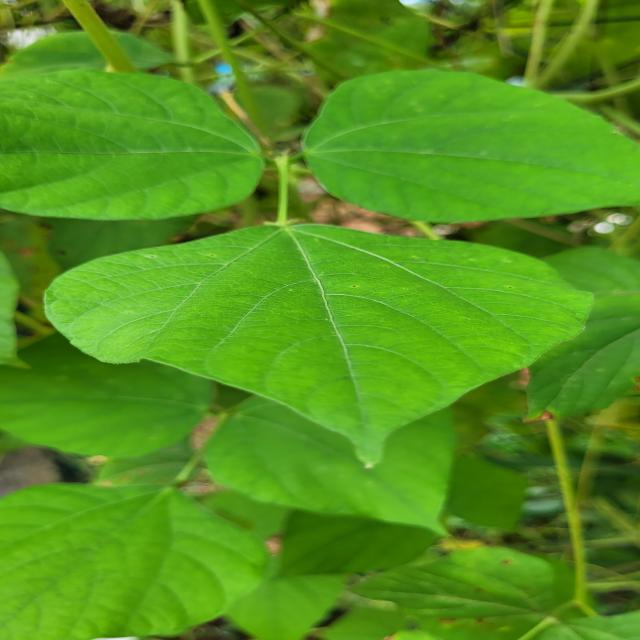Dolicos bean_healthy: (48, 215, 597, 466), (294, 50, 640, 224), (0, 41, 269, 224), (0, 465, 263, 640), (181, 367, 468, 524), (0, 316, 235, 459)
